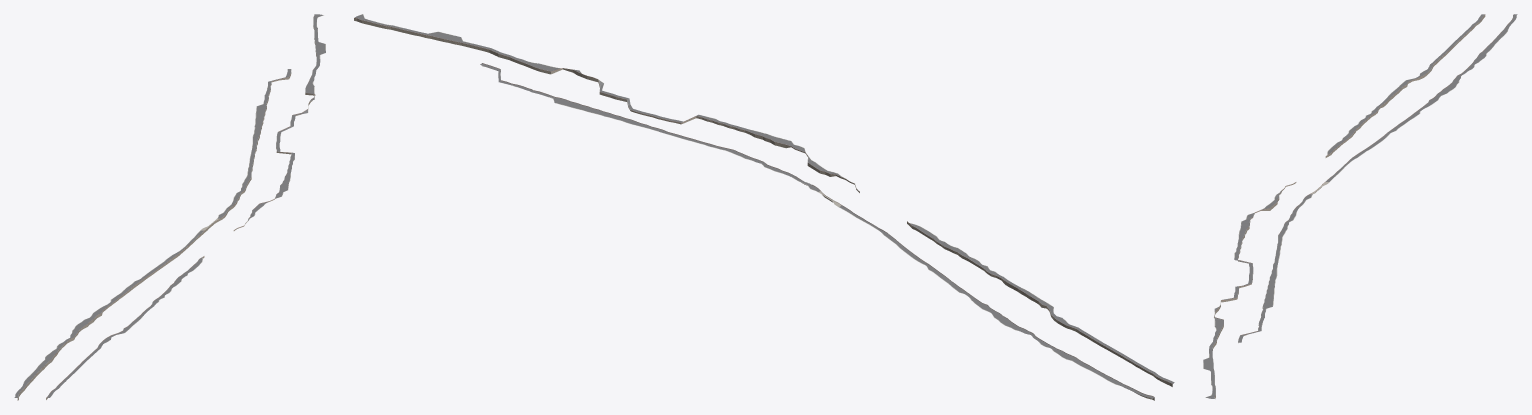
Rendered from lungarni.glb.
3 renders of one model, left to right at view 1: azimuth 90°, elevation 25°; view 2: azimuth 150°, elevation 25°; view 3: azimuth 270°, elevation 25°, orthographic. The views are drawn at different scales.
Visible parts, largest first — view 1: strada_amerigo_vespucci_asfalto@1950-99999.asfalto, strada_soderini_asfalto@1950-99999.asfalto, strada_serristori_asfalto@1950-99999.asfalto, strada_zecca_vecchia_asfalto@1950-99999.asfalto, muro_amerigo_vespucci@1850-99999.muro, strada_benvenuto_cellini_asfalto@1950-99999.asfalto; view 2: strada_amerigo_vespucci_asfalto@1950-99999.asfalto, strada_soderini_asfalto@1950-99999.asfalto, muro_serristori@1870-99999.muro, strada_serristori_asfalto@1950-99999.asfalto; view 3: strada_amerigo_vespucci_asfalto@1950-99999.asfalto, strada_soderini_asfalto@1950-99999.asfalto, strada_serristori_asfalto@1950-99999.asfalto, strada_zecca_vecchia_asfalto@1950-99999.asfalto, muro_soderini@1850-99999.muro, strada_benvenuto_cellini_asfalto@1950-99999.asfalto.
Boxes of the visible parts, left/top/right/bottom form: strada_amerigo_vespucci_asfalto@1950-99999.asfalto: left=14, top=283, right=136, bottom=397; strada_soderini_asfalto@1950-99999.asfalto: left=47, top=283, right=178, bottom=397; strada_serristori_asfalto@1950-99999.asfalto: left=276, top=69, right=316, bottom=180; strada_zecca_vecchia_asfalto@1950-99999.asfalto: left=251, top=94, right=268, bottom=152; muro_amerigo_vespucci@1850-99999.muro: left=17, top=283, right=138, bottom=400; strada_benvenuto_cellini_asfalto@1950-99999.asfalto: left=313, top=14, right=325, bottom=69; strada_amerigo_vespucci_asfalto@1950-99999.asfalto: left=932, top=269, right=1154, bottom=398; strada_soderini_asfalto@1950-99999.asfalto: left=958, top=250, right=1174, bottom=383; muro_serristori@1870-99999.muro: left=497, top=53, right=762, bottom=139; strada_serristori_asfalto@1950-99999.asfalto: left=498, top=51, right=766, bottom=136; strada_amerigo_vespucci_asfalto@1950-99999.asfalto: left=1393, top=14, right=1517, bottom=128; strada_soderini_asfalto@1950-99999.asfalto: left=1352, top=14, right=1484, bottom=128; strada_serristori_asfalto@1950-99999.asfalto: left=1212, top=231, right=1253, bottom=342; strada_zecca_vecchia_asfalto@1950-99999.asfalto: left=1261, top=261, right=1278, bottom=318; muro_soderini@1850-99999.muro: left=1356, top=15, right=1485, bottom=130; strada_benvenuto_cellini_asfalto@1950-99999.asfalto: left=1203, top=342, right=1215, bottom=398.
Bounding box in the file's own units: 3460 × 27.08 × 1192.
